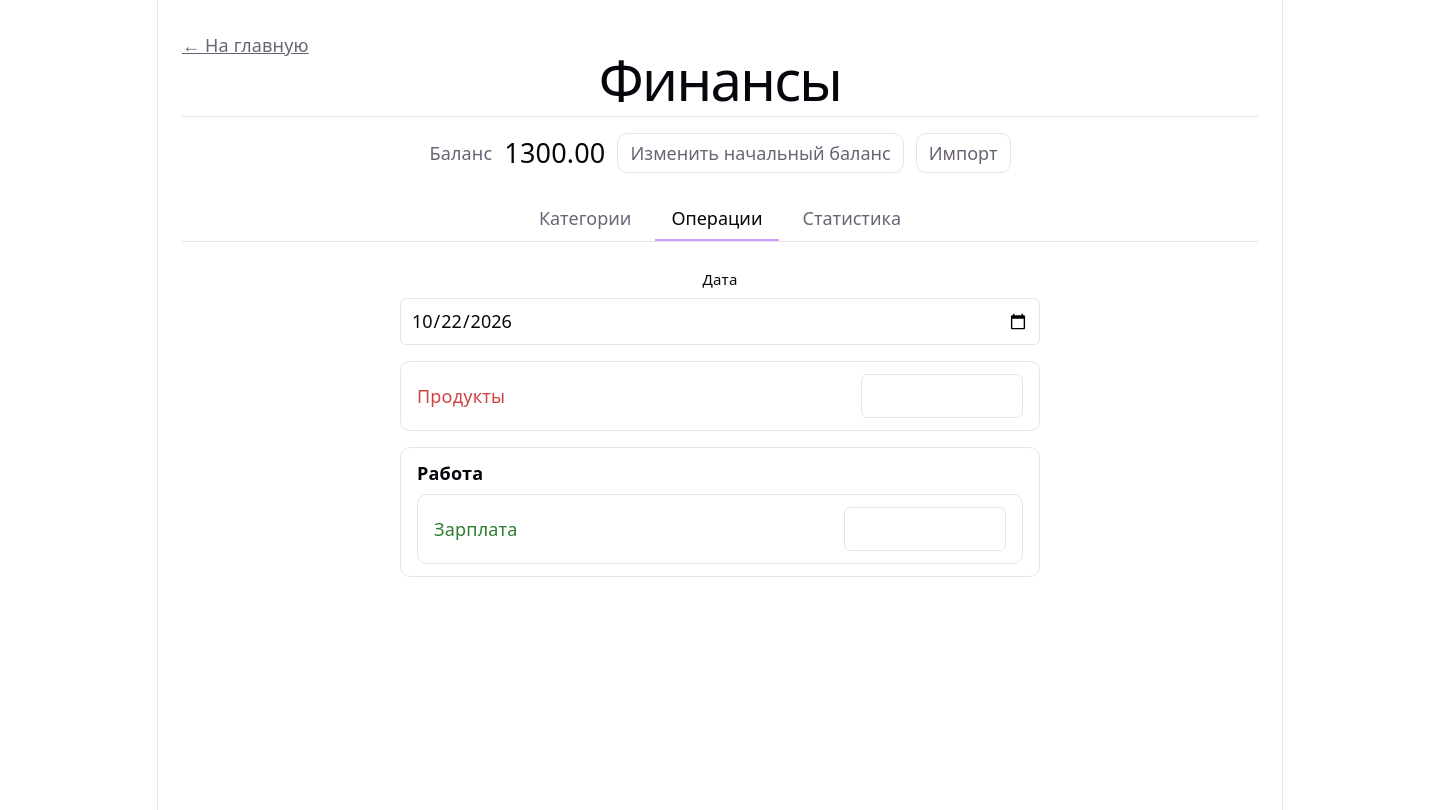
Test: FinancesPage › создаёт категорию с типом, названием и группой
Check: the text "1300.00" is shown, box 504,140 -> 606,166
Click the tab "Категории" at (585, 219), box 523,197 -> 647,241
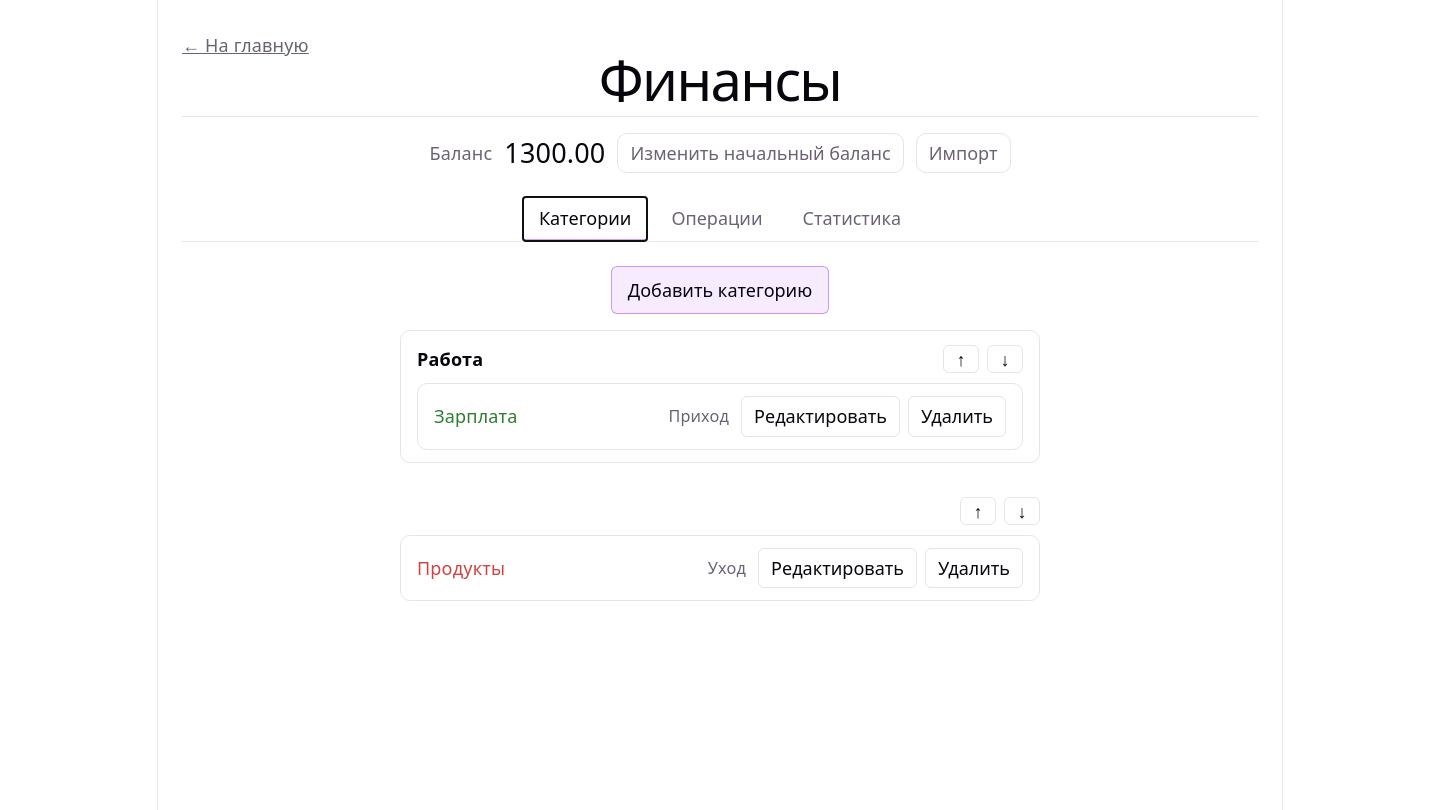
Check: the text "Зарплата" is shown, box 434,404 -> 518,428
Click the button "Добавить категорию" at (720, 290), box 611,266 -> 829,314
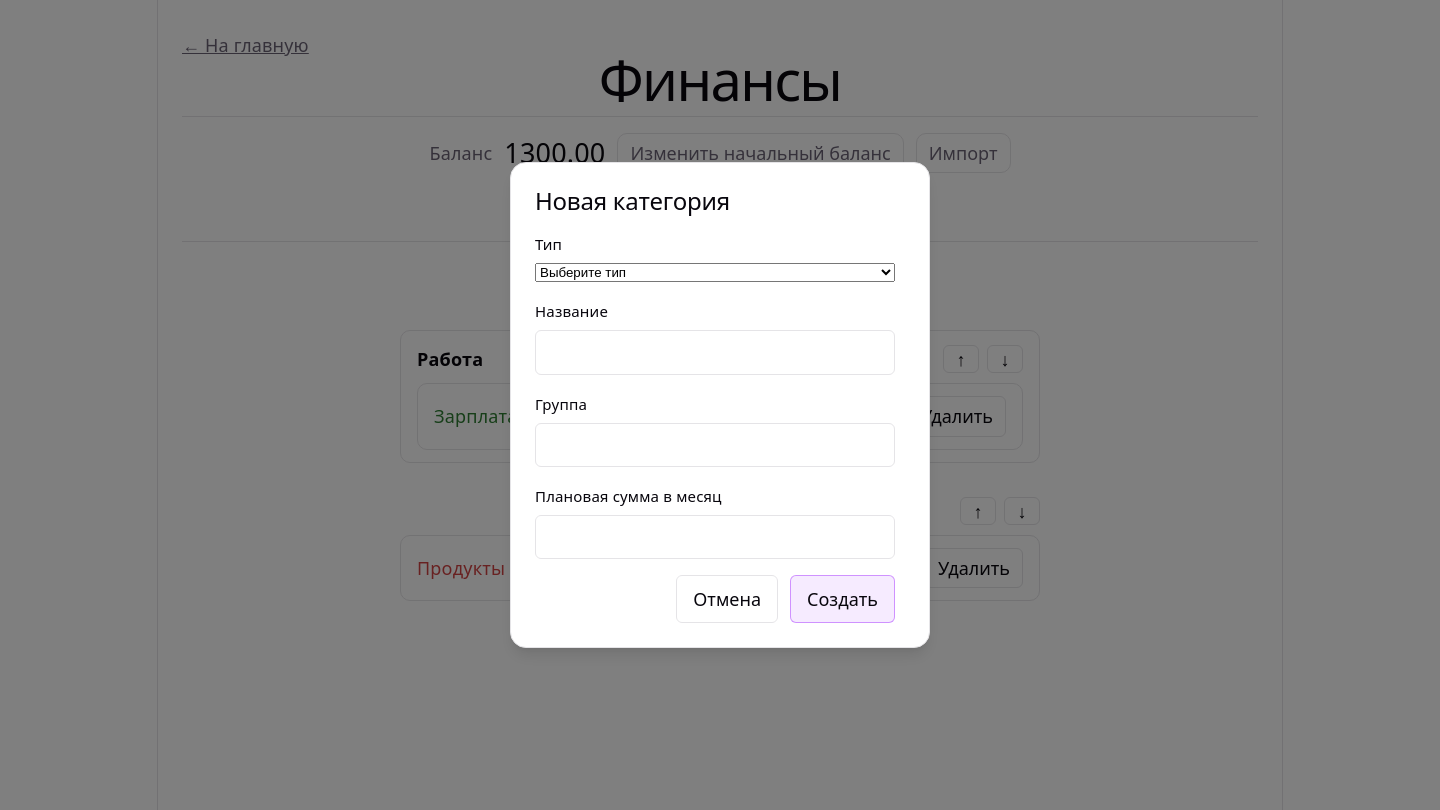
Select "Приход" in the dropdown labelled "Тип" at (715, 273), box 535,263 -> 895,282
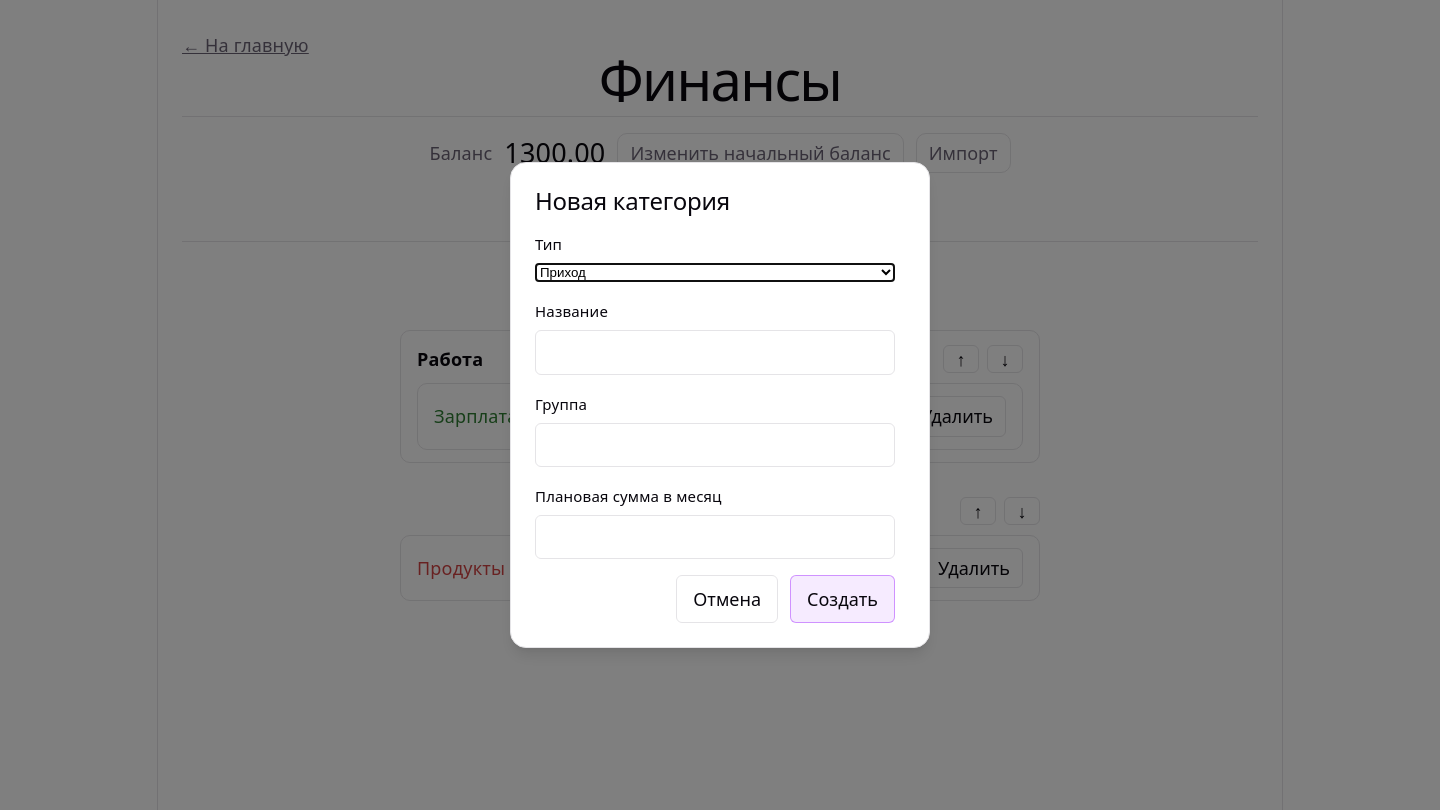
Type "Подарок" into the field labelled "Название" at (715, 353), box 535,330 -> 895,375
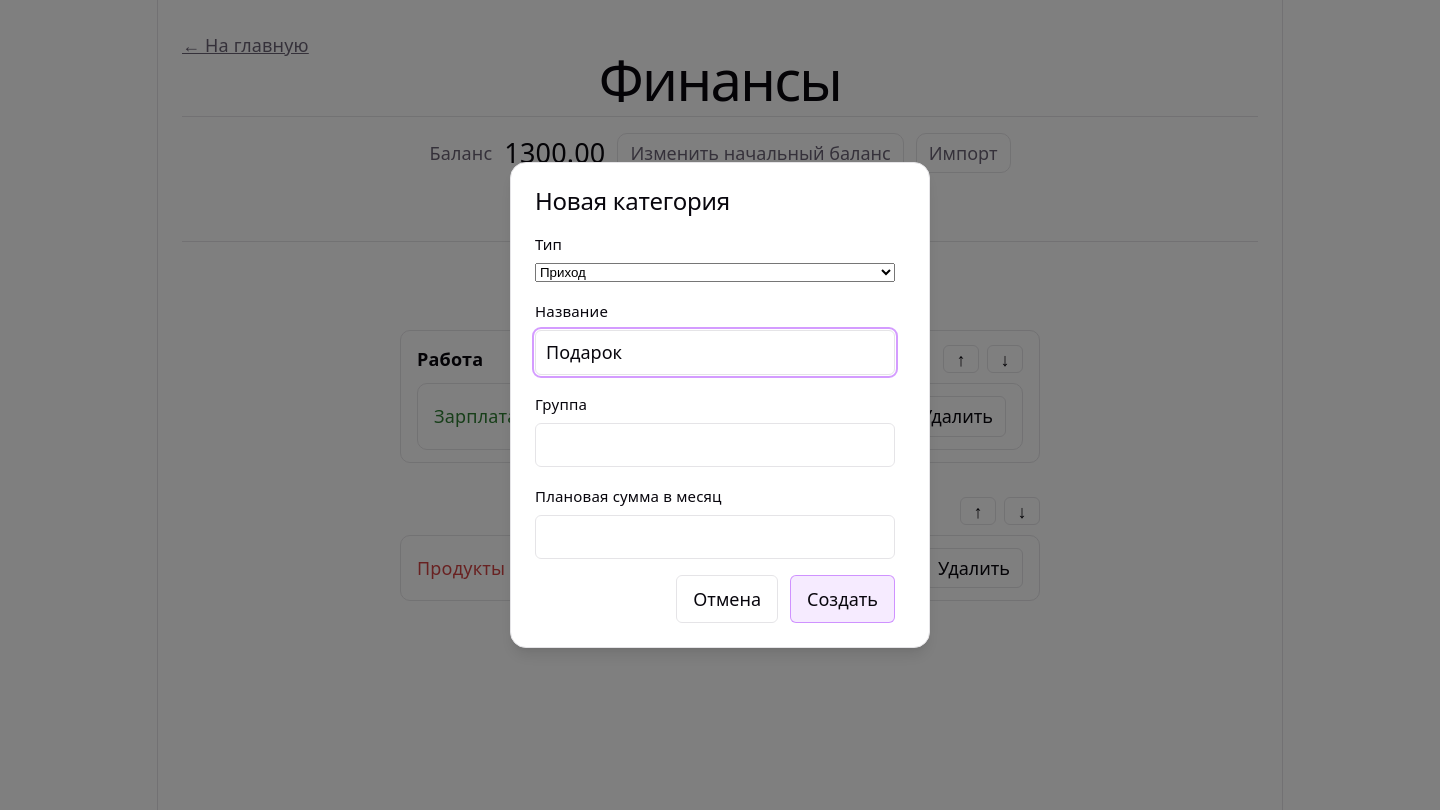
Type "Работа" into the field labelled "Группа" at (715, 445), box 535,423 -> 895,467
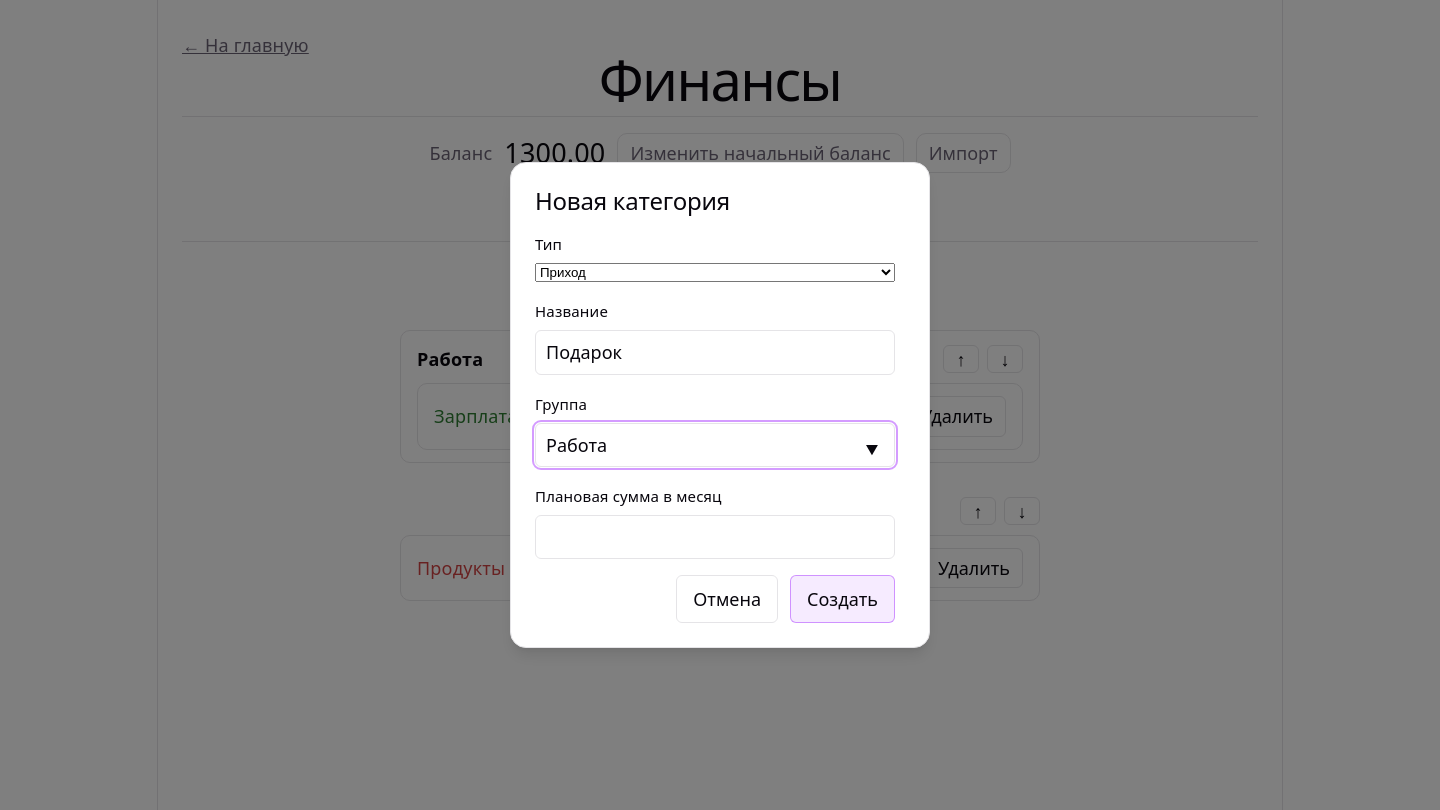
Click the button "Создать" at (843, 599), box 790,575 -> 895,623
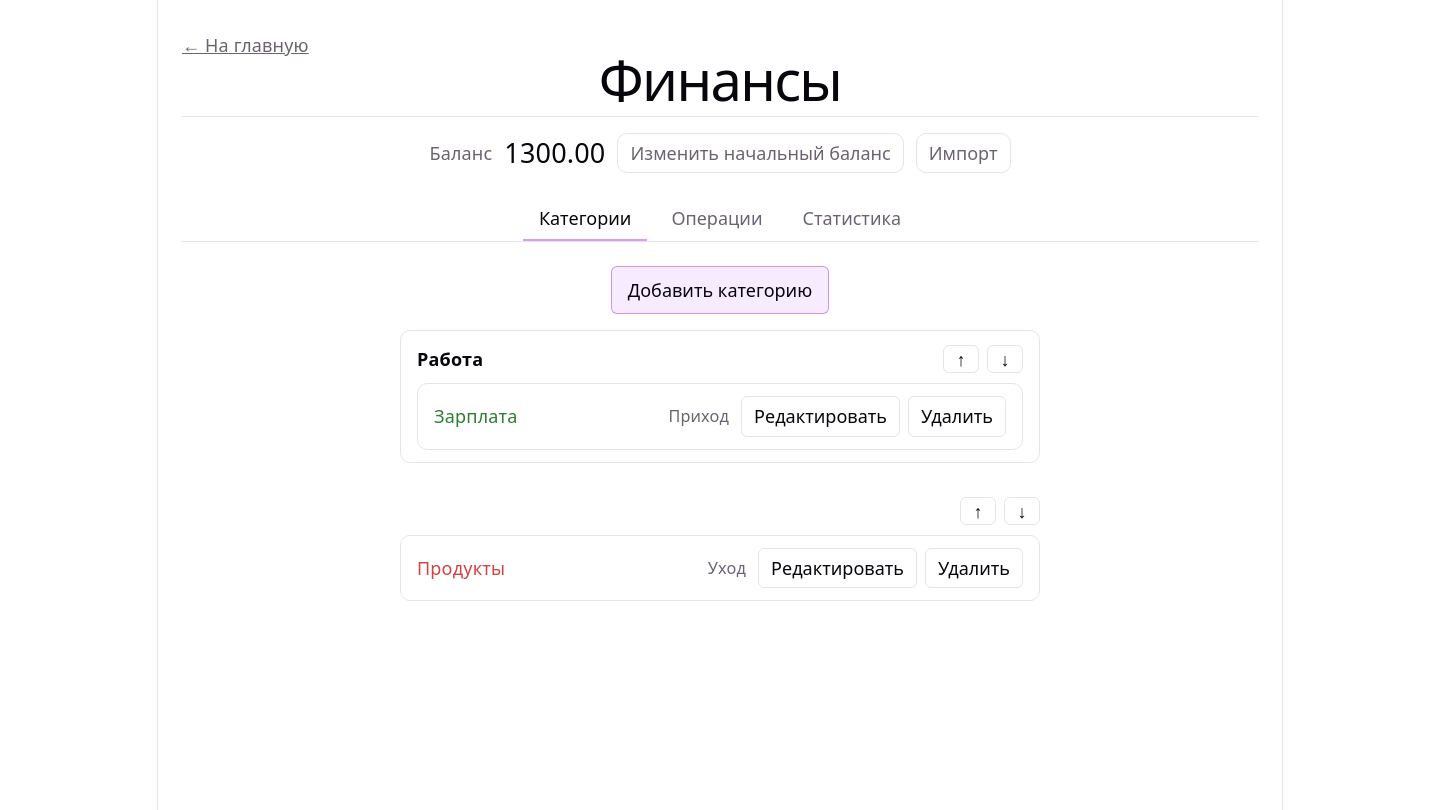
Check: the dialog is gone
